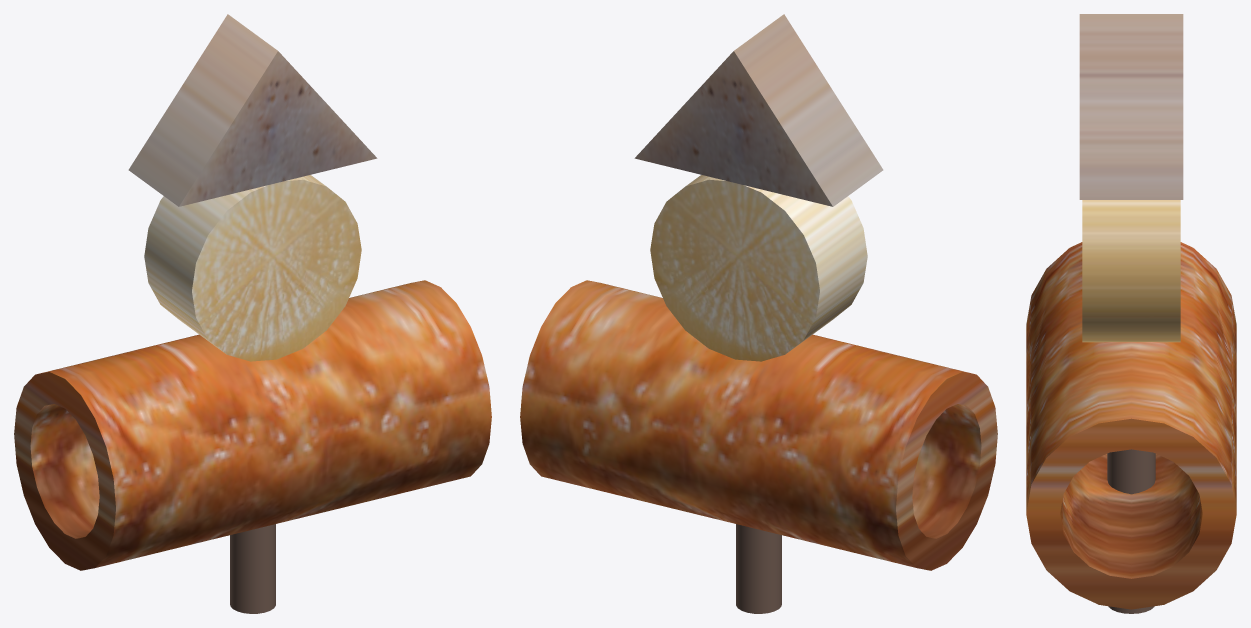
Rendered from Oden.fbx.
3 renders of one model, left to right at view 1: azimuth 30°, elevation 25°; view 2: azimuth 150°, elevation 25°; view 3: azimuth 270°, elevation 25°, orthographic. The views are drawn at different scales.
Parts seen in each view (by area): view 1: pCube2; view 2: pCube2; view 3: pCube2.
Boxes of the visible parts, <box> form: pCube2: <box>14,14,491,613</box>; pCube2: <box>520,14,997,613</box>; pCube2: <box>1026,14,1236,613</box>.
Bounding box in the file's own units: 2.06 × 2.99 × 0.9671.
